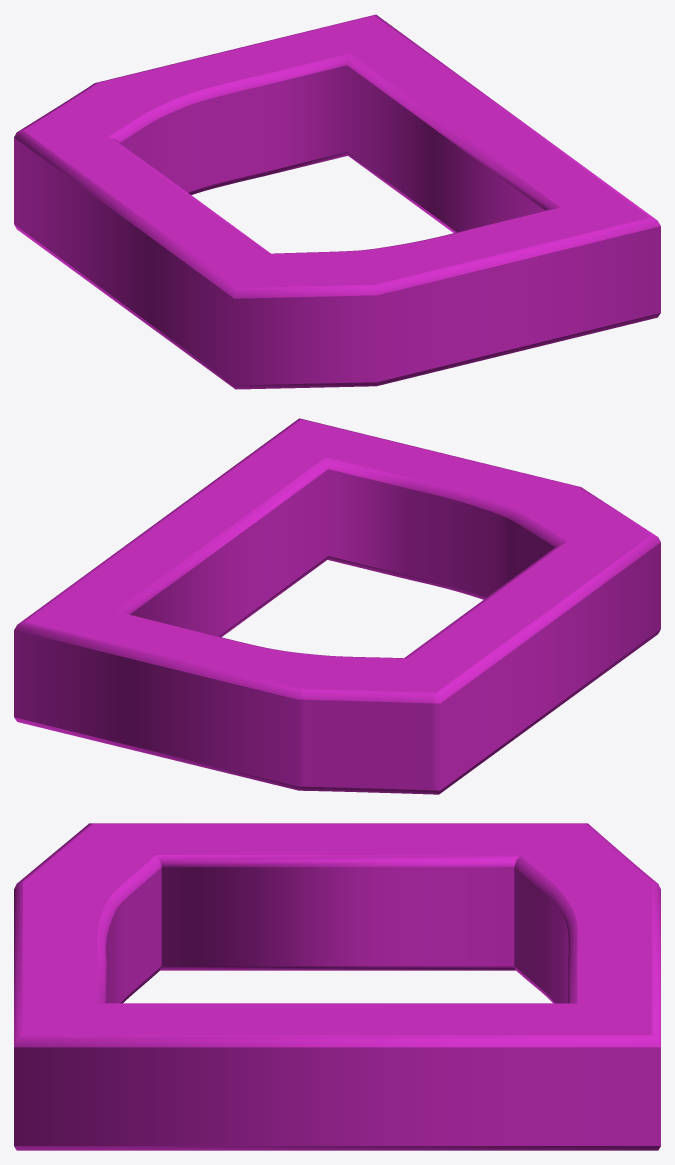
File: Letter_D_Capital_CoolFont.fbx
The picture shows the model from 3 angles, top to bottom: view 1: azimuth 30°, elevation 25°; view 2: azimuth 150°, elevation 25°; view 3: azimuth 270°, elevation 25°; orthographic projection. The views are drawn at different scales.
Parts seen in each view (by area): view 1: Letter_D; view 2: Letter_D; view 3: Letter_D.
Boxes of the visible parts, box(x1,y1,x2,y2) form: Letter_D: box(14, 14, 660, 389); Letter_D: box(14, 418, 660, 794); Letter_D: box(14, 823, 660, 1150).
Bounding box in the file's own units: 0.5707 × 0.14 × 0.712.
